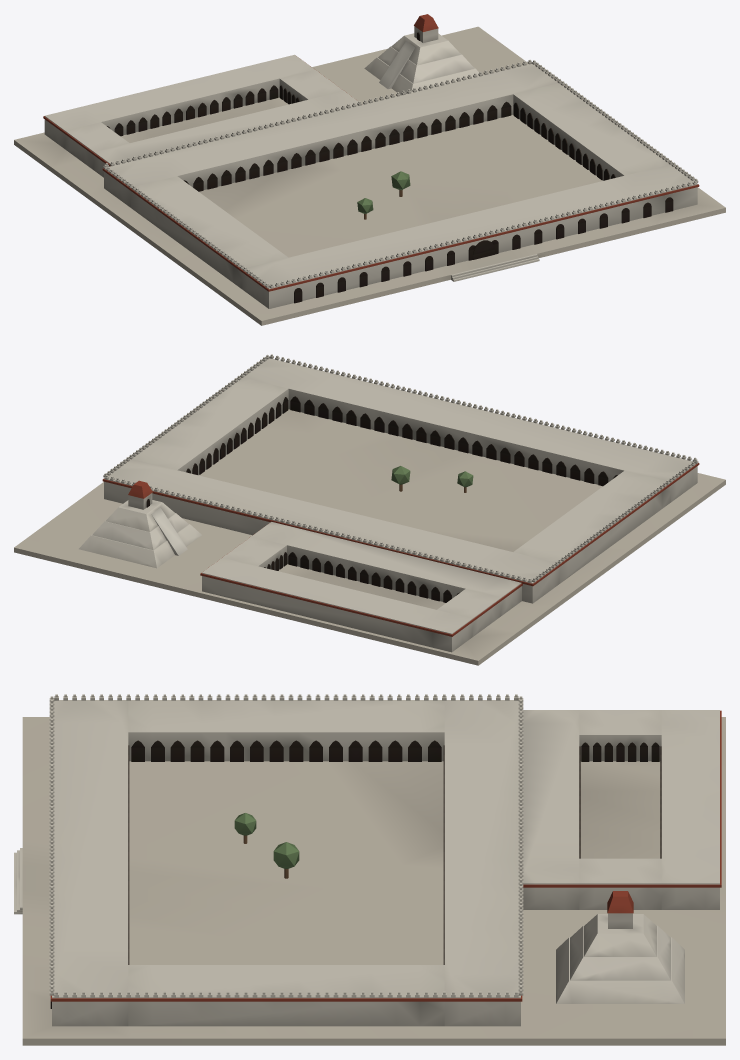
Rendered from axayacatl-palace.glb.
3 renders of one model, top to bottom at view 1: azimuth 30°, elevation 25°; view 2: azimuth 150°, elevation 25°; view 3: azimuth 270°, elevation 25°, orthographic. The views are drawn at different scales.
Visible parts, largest first — view 1: p1_courts, p0_platform, p2_temple; view 2: p1_courts, p0_platform, p2_temple; view 3: p1_courts, p0_platform, p2_temple.
Part boxes in pixels (x1,y1,x2,y2): p1_courts: [44, 54, 697, 308]; p0_platform: [14, 26, 725, 325]; p2_temple: [43, 14, 699, 291]; p1_courts: [104, 358, 697, 652]; p0_platform: [14, 409, 725, 665]; p2_temple: [79, 354, 699, 636]; p1_courts: [50, 700, 719, 1026]; p0_platform: [14, 717, 725, 1045]; p2_temple: [49, 694, 721, 1003].
Size of the model in its own units: 130 by 16.97 by 122.
